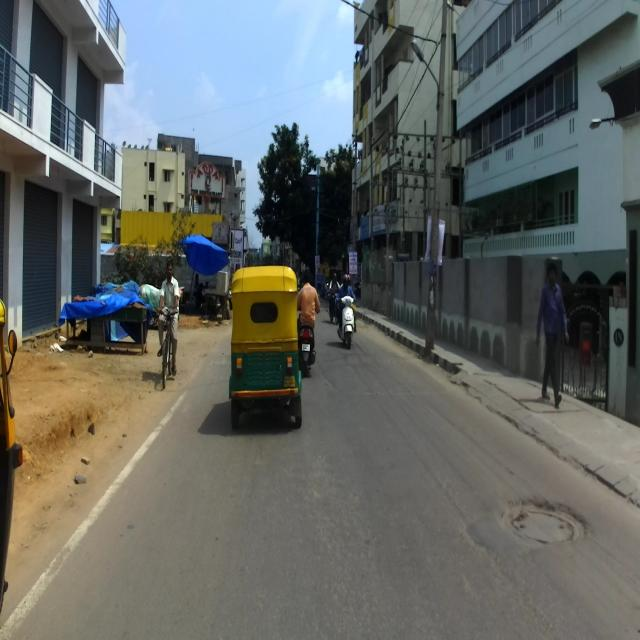autorickshaw: (228, 264, 302, 430), (0, 296, 23, 629)
scooter: (294, 300, 320, 378), (337, 292, 356, 348)
